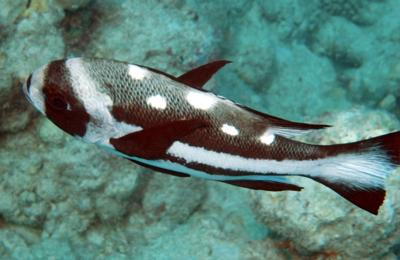Lutjanidae -Snappers-: (18, 43, 400, 220)
